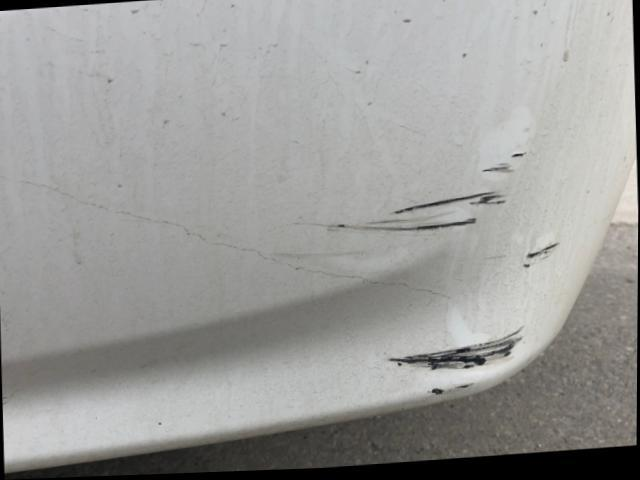scratch: (315, 152, 567, 403)
